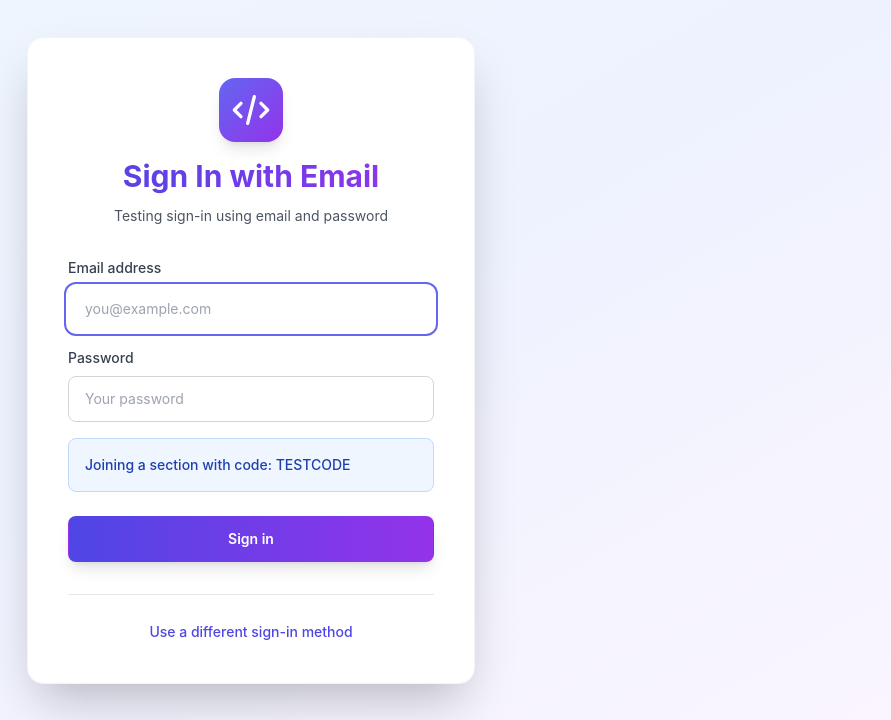
it: EmailSignInPage › Join code flow › shows error message when join code is invalid
The image size is (891, 720).
Type "student@example.com" into the field labelled "Email address" at (251, 308), box [68,286,434,332]
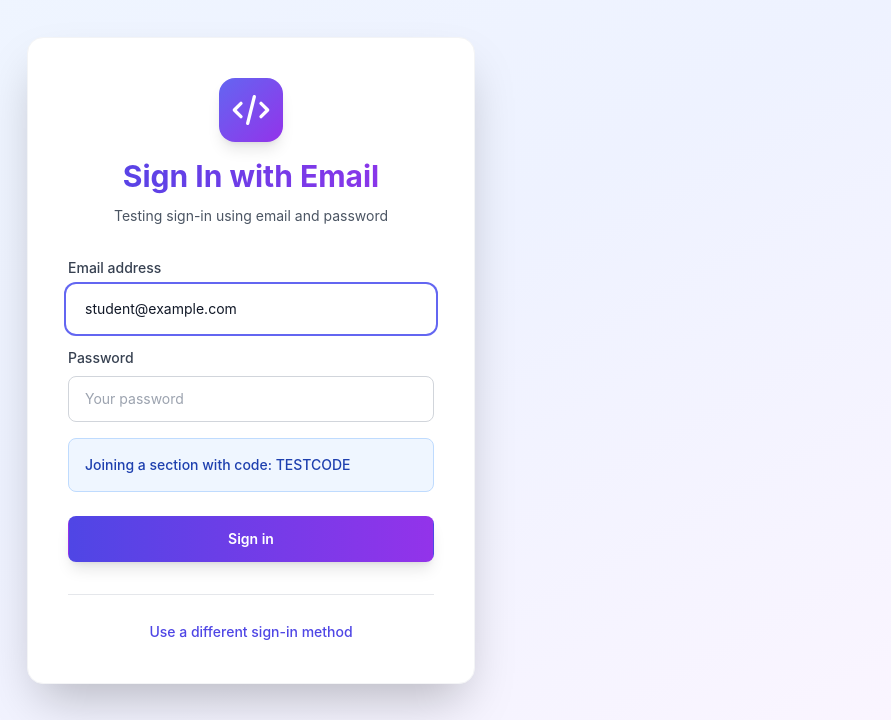
Type "password123" into the password field labelled "Password" at (251, 398), box [68,376,434,422]
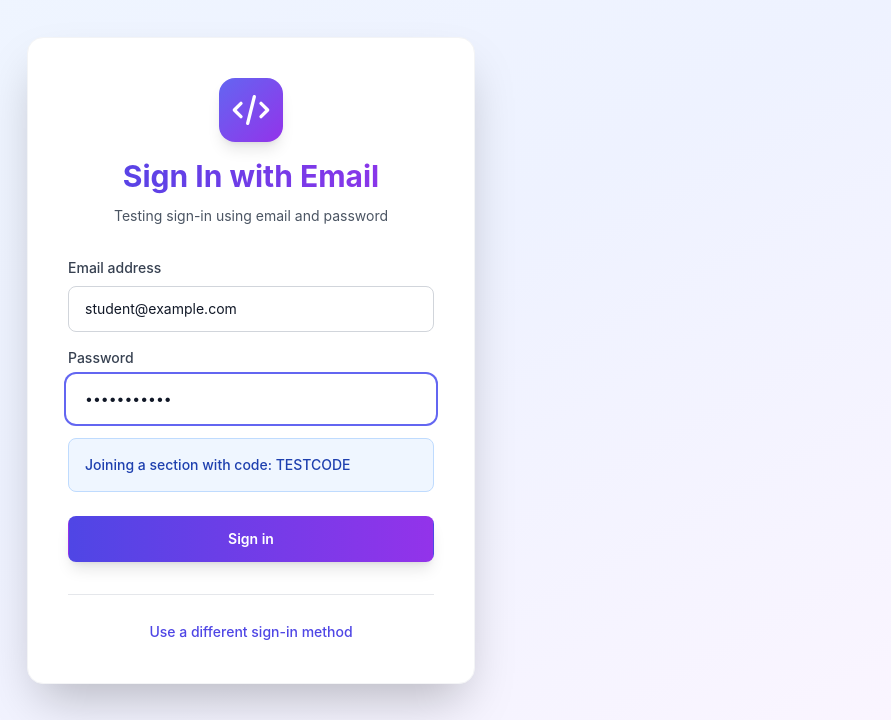
Click the button "Sign in" at (251, 538), box [68,516,434,562]
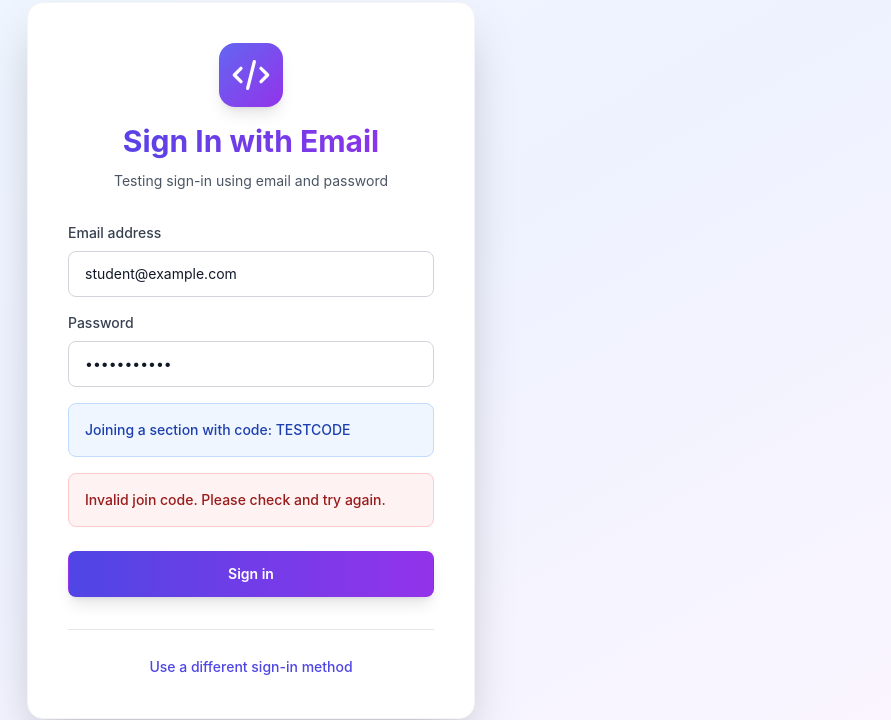
Result: the text "Invalid join code. Please check and try again." is shown at [85,490,417,510]
